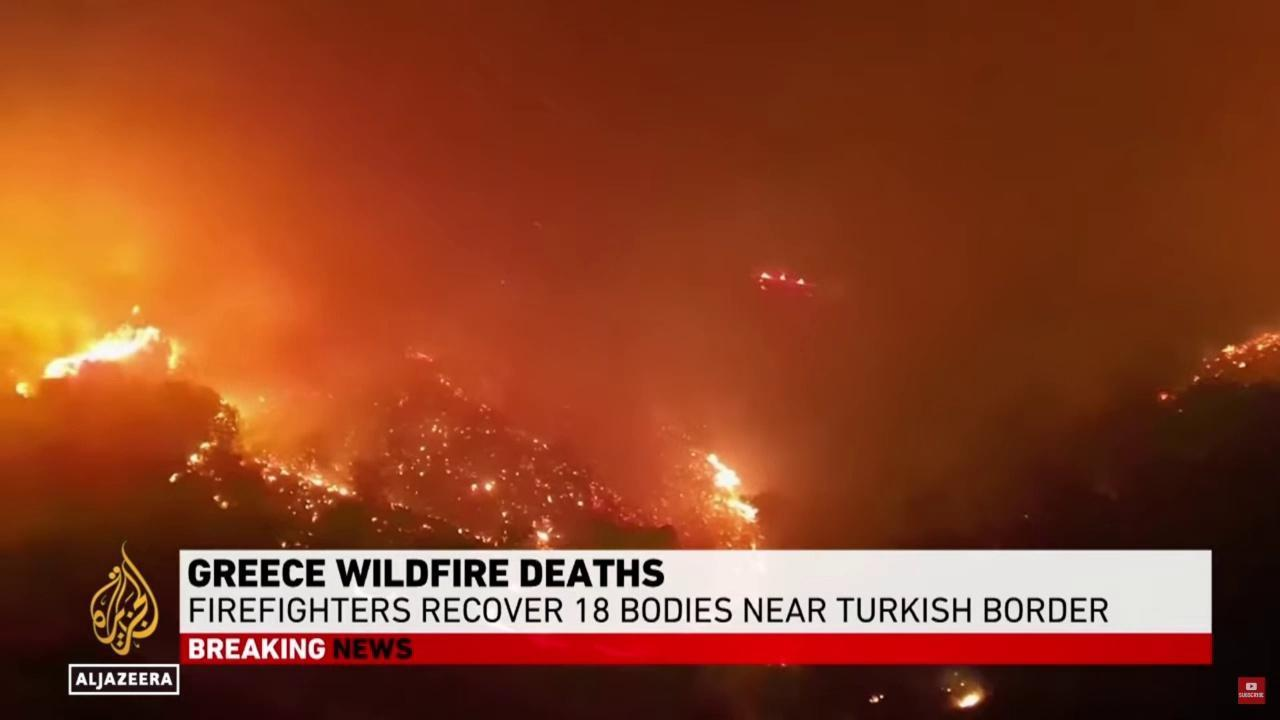fire: (620, 439, 773, 549), (249, 446, 362, 523), (40, 323, 164, 381), (1201, 329, 1280, 371), (184, 429, 222, 471), (165, 332, 186, 371), (956, 689, 983, 709), (14, 379, 34, 404), (210, 491, 229, 508), (408, 351, 434, 362), (870, 692, 886, 706), (534, 529, 551, 542), (755, 270, 773, 281), (482, 479, 497, 492), (167, 467, 178, 484), (472, 535, 492, 544), (777, 270, 790, 283), (793, 277, 808, 286), (468, 483, 480, 493), (1158, 391, 1169, 401), (1190, 372, 1199, 383), (397, 461, 404, 475), (546, 493, 554, 504), (576, 499, 585, 508), (429, 422, 437, 432), (281, 541, 289, 550), (422, 524, 432, 530), (418, 444, 426, 451), (370, 516, 378, 523), (293, 541, 302, 547), (455, 527, 462, 534), (419, 470, 425, 478), (532, 437, 538, 445), (308, 531, 314, 538), (494, 540, 499, 548)
smoke: (0, 0, 1280, 550)
